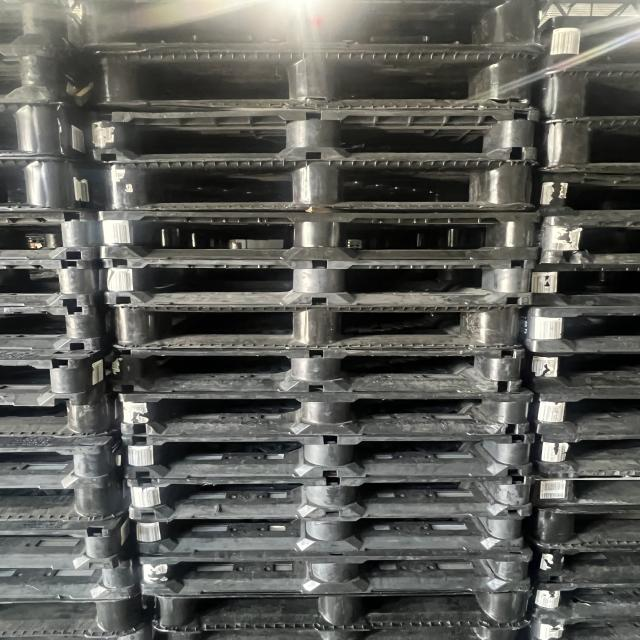igps: (86, 43, 544, 113), (82, 102, 547, 168), (72, 0, 552, 59), (89, 154, 545, 215), (91, 206, 547, 264), (95, 253, 541, 310), (103, 298, 529, 354), (117, 429, 541, 484), (114, 386, 538, 440), (123, 471, 540, 524), (135, 546, 537, 600), (106, 345, 532, 395), (147, 582, 539, 636), (132, 508, 530, 559), (148, 611, 538, 640), (0, 509, 146, 572), (519, 11, 640, 79), (523, 111, 640, 179), (0, 345, 126, 408), (0, 554, 147, 608), (0, 434, 132, 492), (0, 593, 162, 640), (0, 151, 114, 217), (511, 301, 640, 359), (0, 46, 119, 108), (528, 65, 640, 128), (0, 98, 113, 160), (515, 342, 640, 398), (0, 472, 133, 524), (0, 255, 122, 311), (514, 502, 640, 554), (526, 210, 640, 267), (524, 166, 640, 221), (0, 206, 109, 264), (519, 430, 640, 482), (515, 258, 640, 308), (0, 304, 125, 352), (0, 394, 127, 441), (520, 389, 640, 438), (521, 540, 640, 588), (0, 0, 104, 53), (517, 579, 640, 623), (521, 470, 640, 511), (506, 611, 640, 640)
